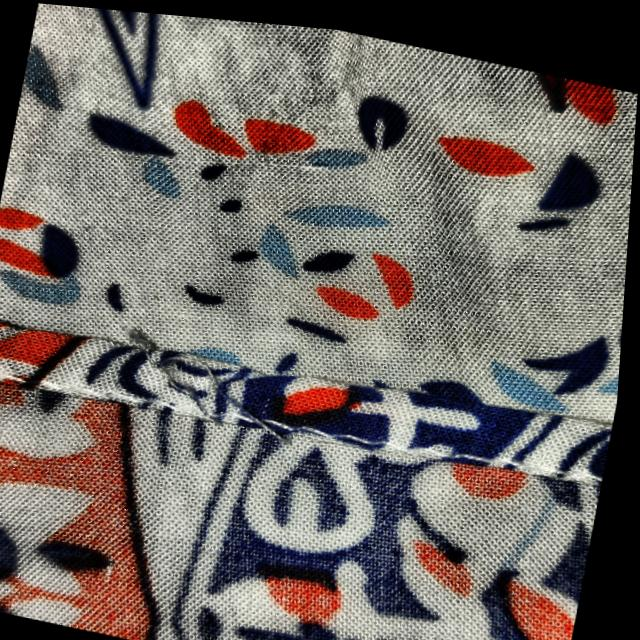Stitch: (94, 301, 328, 459)
